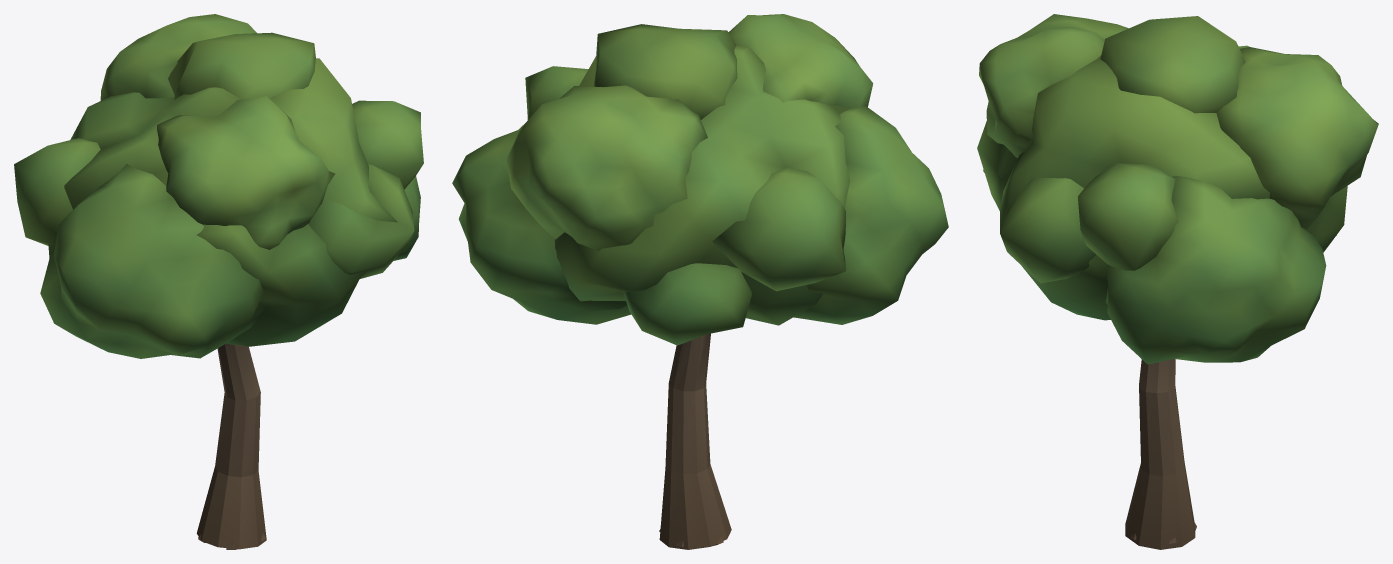
File: tree_broadleaf_lod0.glb
3 renders of one model, left to right at view 1: azimuth 30°, elevation 25°; view 2: azimuth 150°, elevation 25°; view 3: azimuth 270°, elevation 25°, orthographic. The views are drawn at different scales.
Visible parts, largest first — view 1: tree_broadleaf_lod0; view 2: tree_broadleaf_lod0; view 3: tree_broadleaf_lod0.
Boxes of the visible parts, <box> form: tree_broadleaf_lod0: <box>14,14,423,549</box>; tree_broadleaf_lod0: <box>452,14,948,549</box>; tree_broadleaf_lod0: <box>977,14,1378,549</box>.
Bounding box in the file's own units: 7.65 × 8.87 × 6.33.
